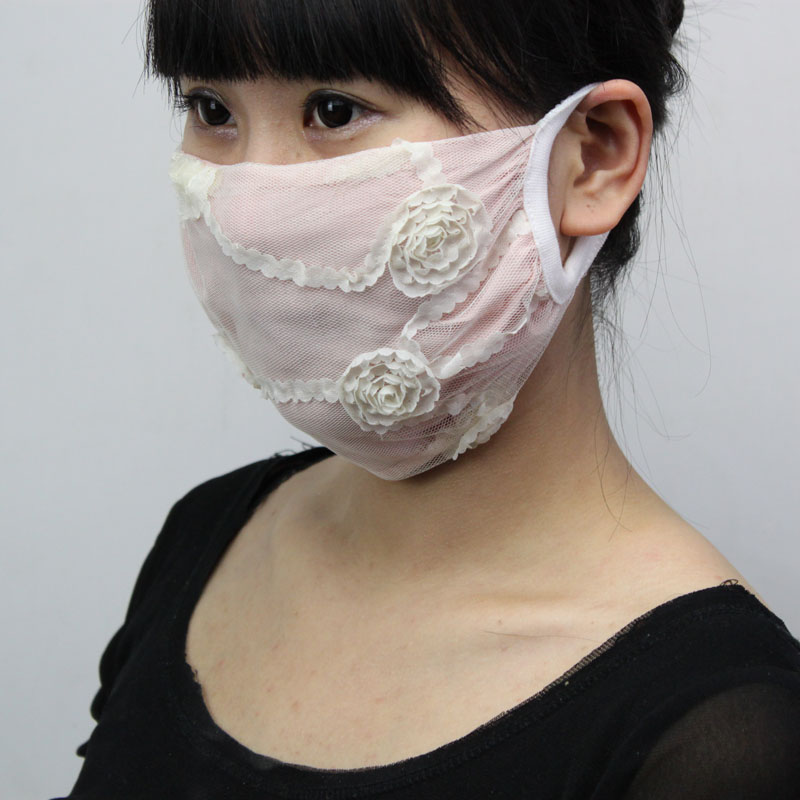face_mask: (171, 63, 559, 477)
